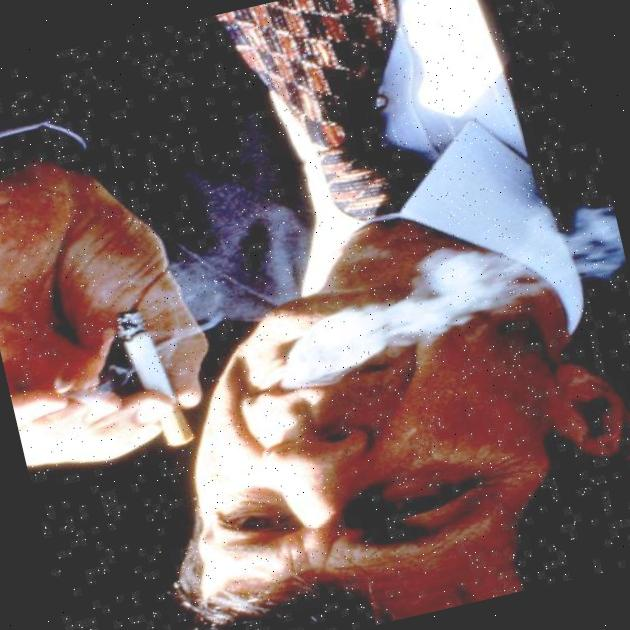smoke: (270, 201, 630, 386)
